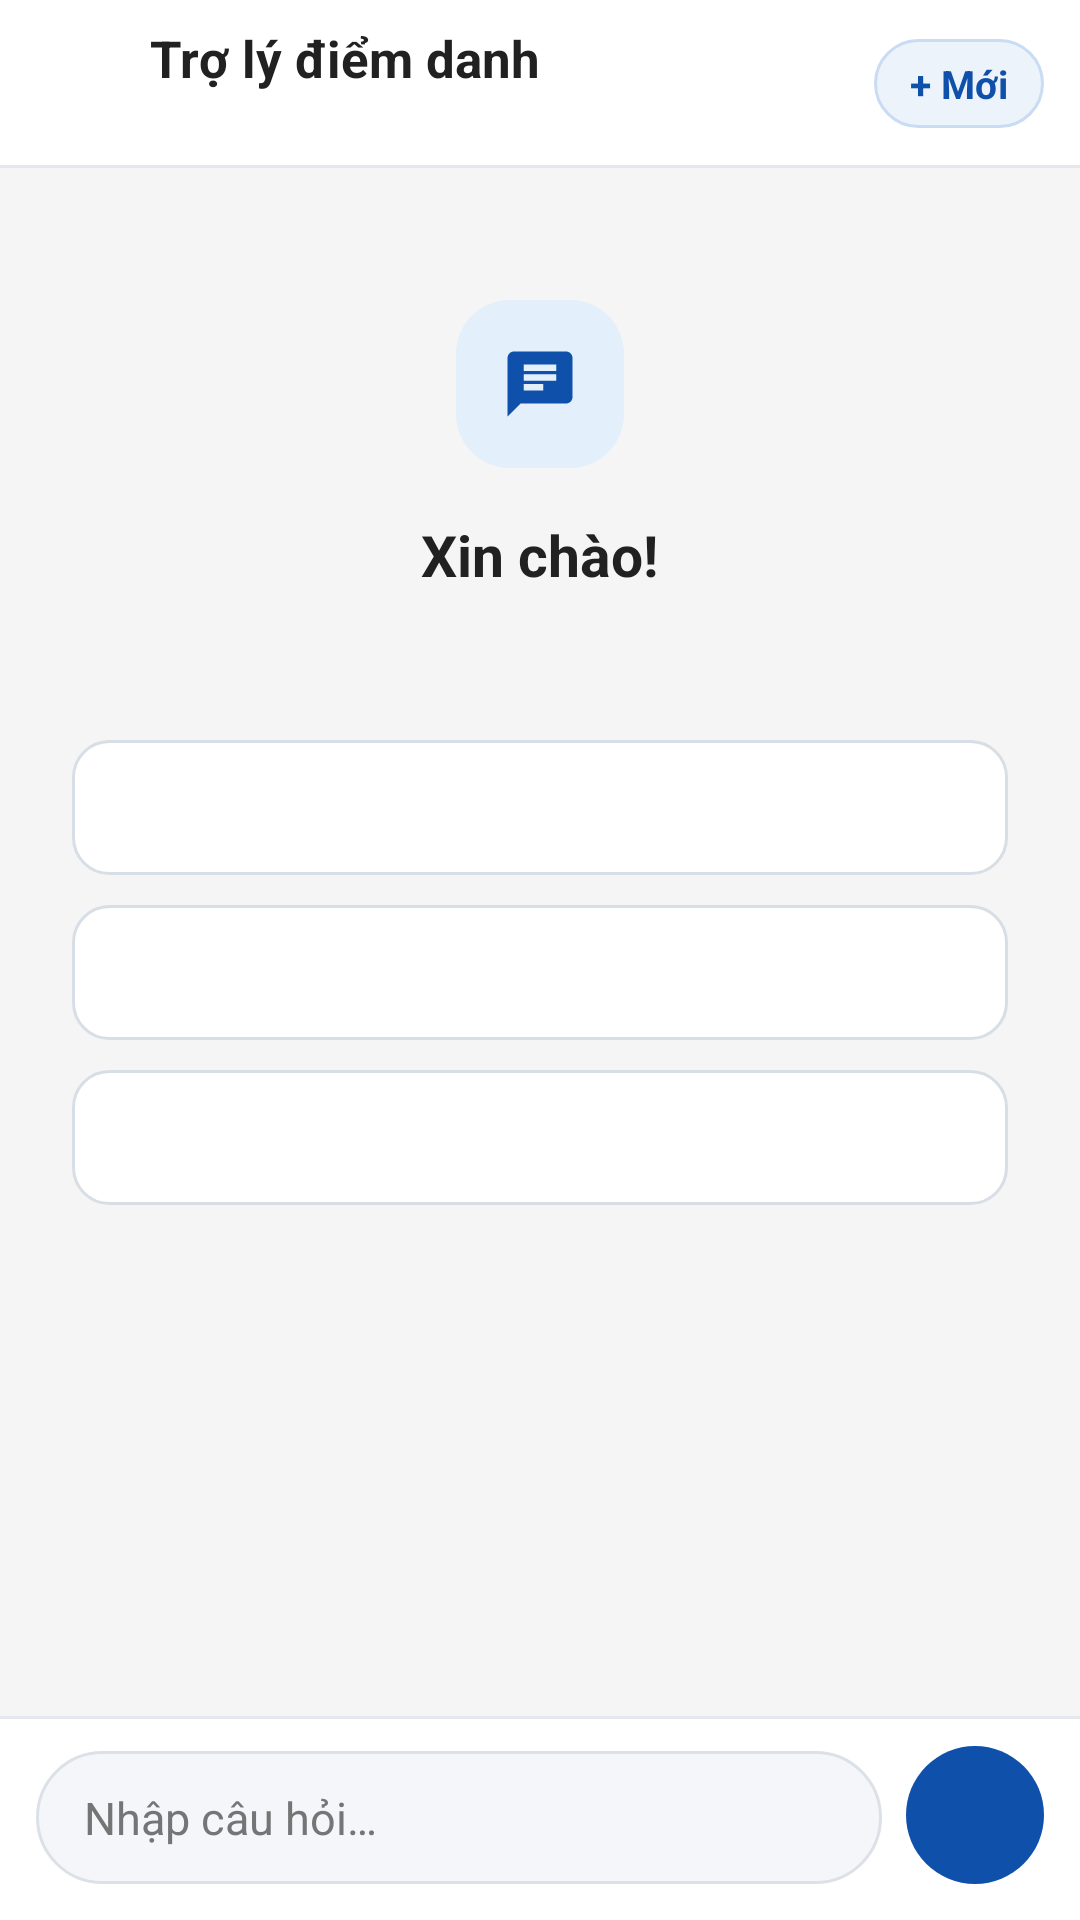

Icon click points for this 1080 x 1920 phone screenshot, format (x,y):
Trợ lý: (540,384)
